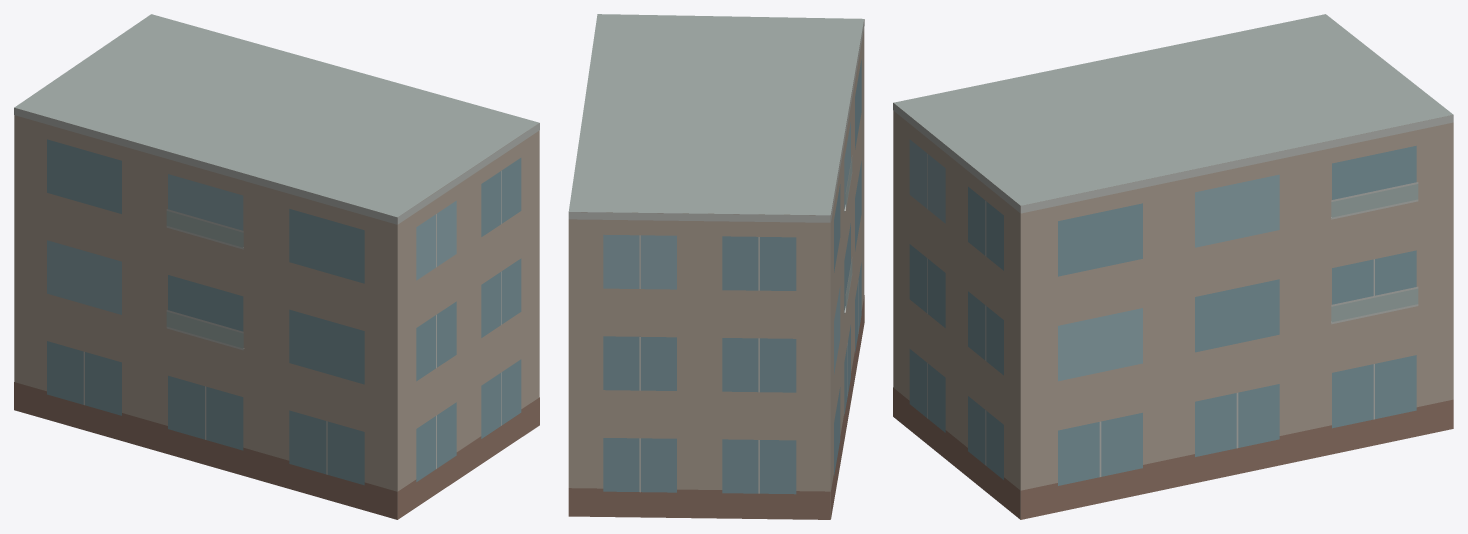
Rendered from survey-upis-32738247.glb.
3 renders of one model, left to right at view 1: azimuth 30°, elevation 25°; view 2: azimuth 150°, elevation 25°; view 3: azimuth 270°, elevation 25°, orthographic. The views are drawn at different scales.
Parts seen in each view (by area): view 1: survey-upis-32738247.tmp; view 2: survey-upis-32738247.tmp; view 3: survey-upis-32738247.tmp.
Part boxes in pixels (x1,y1,x2,y2): survey-upis-32738247.tmp: (14, 14, 539, 519); survey-upis-32738247.tmp: (568, 14, 864, 519); survey-upis-32738247.tmp: (893, 14, 1453, 519).
Size of the model in its own units: 12.98 by 9.9 by 16.02.
